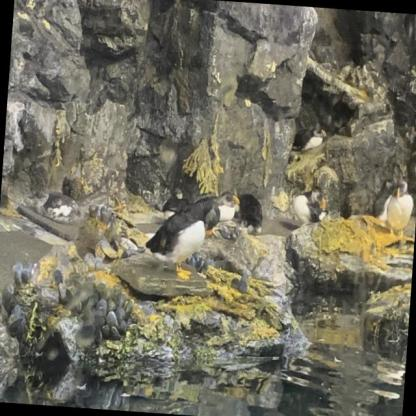puffin: (142, 200, 215, 285), (182, 188, 240, 233), (382, 178, 416, 241), (290, 185, 330, 230), (369, 174, 396, 224), (290, 122, 328, 157), (161, 186, 191, 225)
